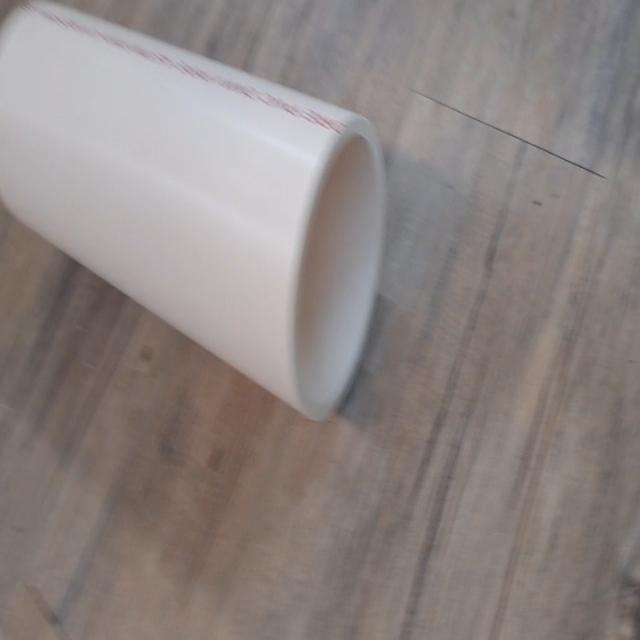CORAL: (0, 0, 394, 431)
